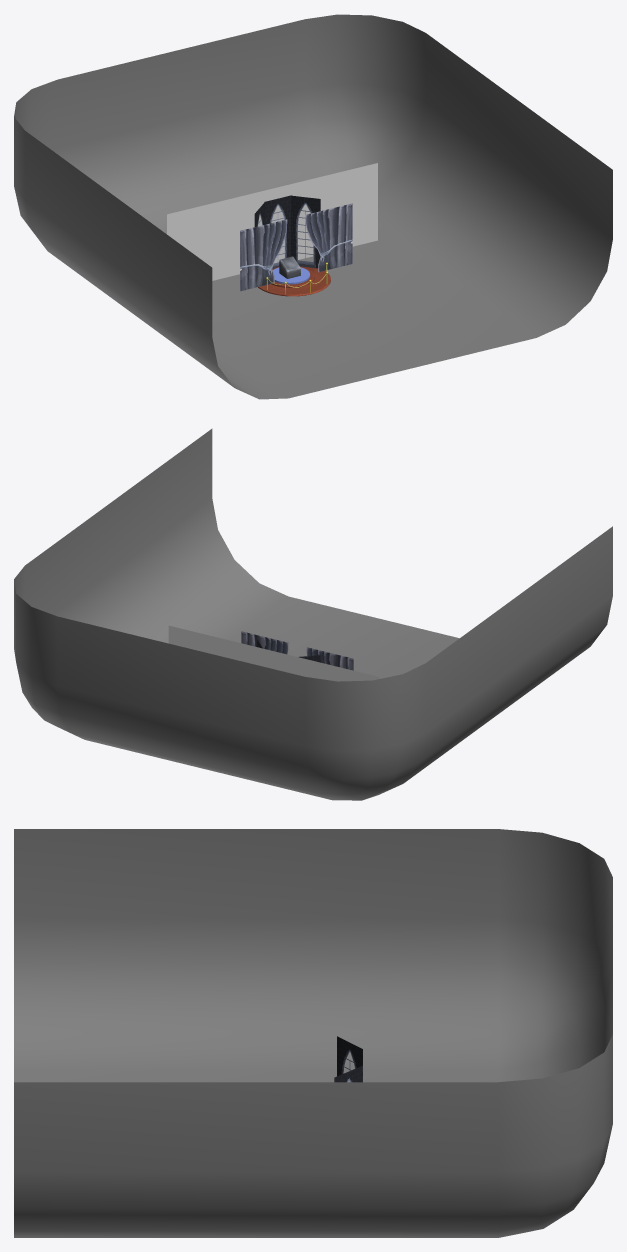
The model's file is Auction1.fbx.
3 renders of one model, top to bottom at view 1: azimuth 30°, elevation 25°; view 2: azimuth 150°, elevation 25°; view 3: azimuth 270°, elevation 25°, orthographic. The views are drawn at different scales.
Visible parts, largest first — view 1: Scene, Plane, CurtainRight, CurtainLeft, Wall.001, Cylinder, Wall; view 2: Scene, Plane, CurtainRight, CurtainLeft; view 3: Scene, Wall.002.
Boxes of the visible parts, box(x1,y1,x2,y2) form: Scene: box(14, 14, 612, 399); Plane: box(167, 163, 377, 280); CurtainRight: box(305, 203, 352, 272); CurtainLeft: box(240, 219, 287, 291); Wall.001: box(291, 195, 320, 268); Cylinder: box(258, 266, 330, 296); Wall: box(265, 195, 291, 268); Scene: box(14, 428, 612, 800); Plane: box(168, 625, 379, 681); CurtainRight: box(241, 631, 288, 654); CurtainLeft: box(306, 647, 353, 670); Scene: box(14, 829, 612, 1237); Wall.002: box(337, 1036, 362, 1076).
Size of the model in its own units: 10000 by 3589 by 10000.
